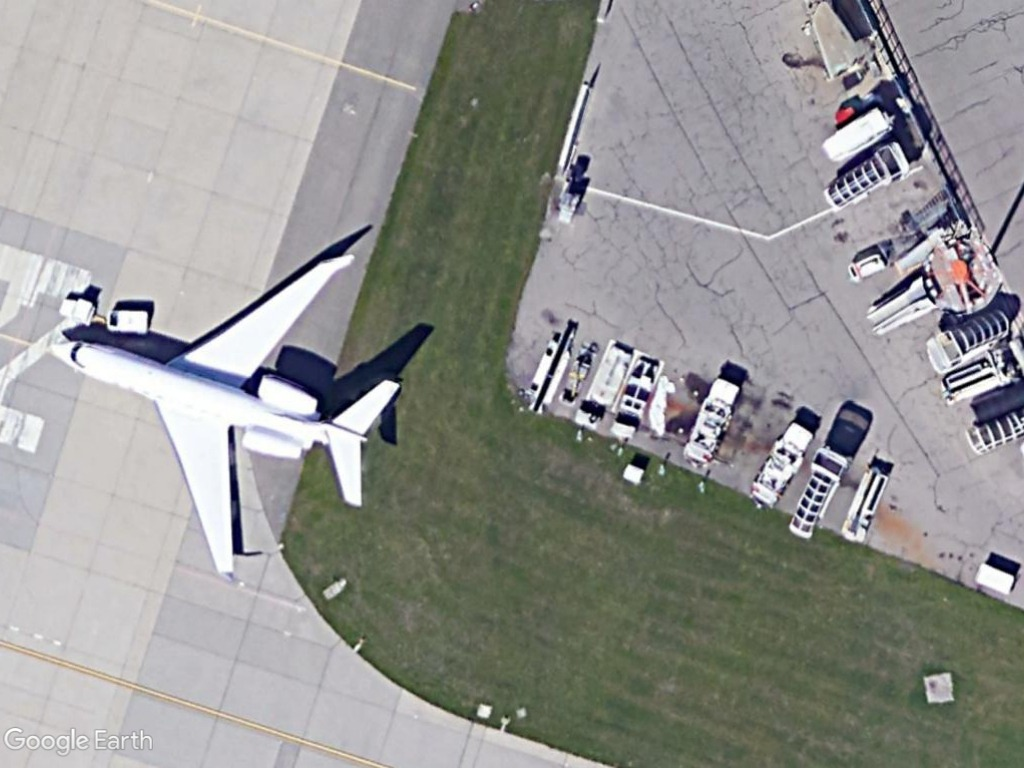chartered: (45, 250, 404, 586)
stairtruck: (858, 269, 939, 337)
